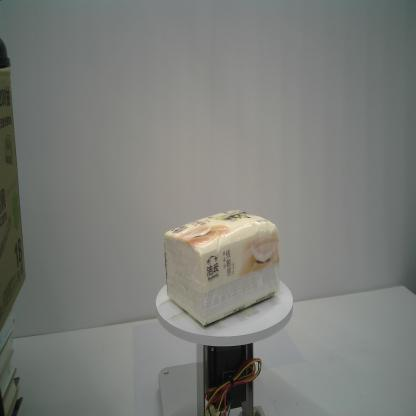Tissue: (162, 208, 281, 327)
